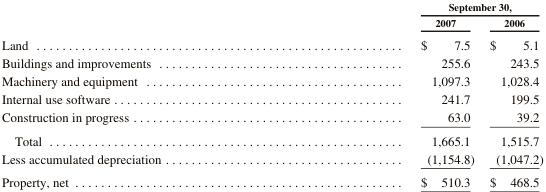table: (0, 0, 542, 188)
table column: (0, 0, 290, 188), (290, 0, 481, 188), (481, 0, 542, 188)
table column header: (0, 0, 542, 32)
table row: (0, 32, 542, 53), (0, 107, 542, 128), (0, 128, 542, 149), (0, 149, 542, 169), (0, 169, 542, 188), (0, 14, 542, 32), (0, 53, 542, 71), (0, 71, 542, 89), (0, 89, 542, 107), (0, 0, 542, 14)
table spanning cell: (290, 0, 542, 14)
